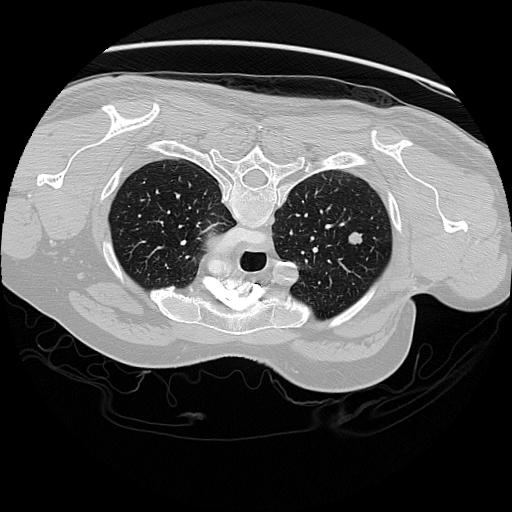nodule: (347, 230, 366, 249)
